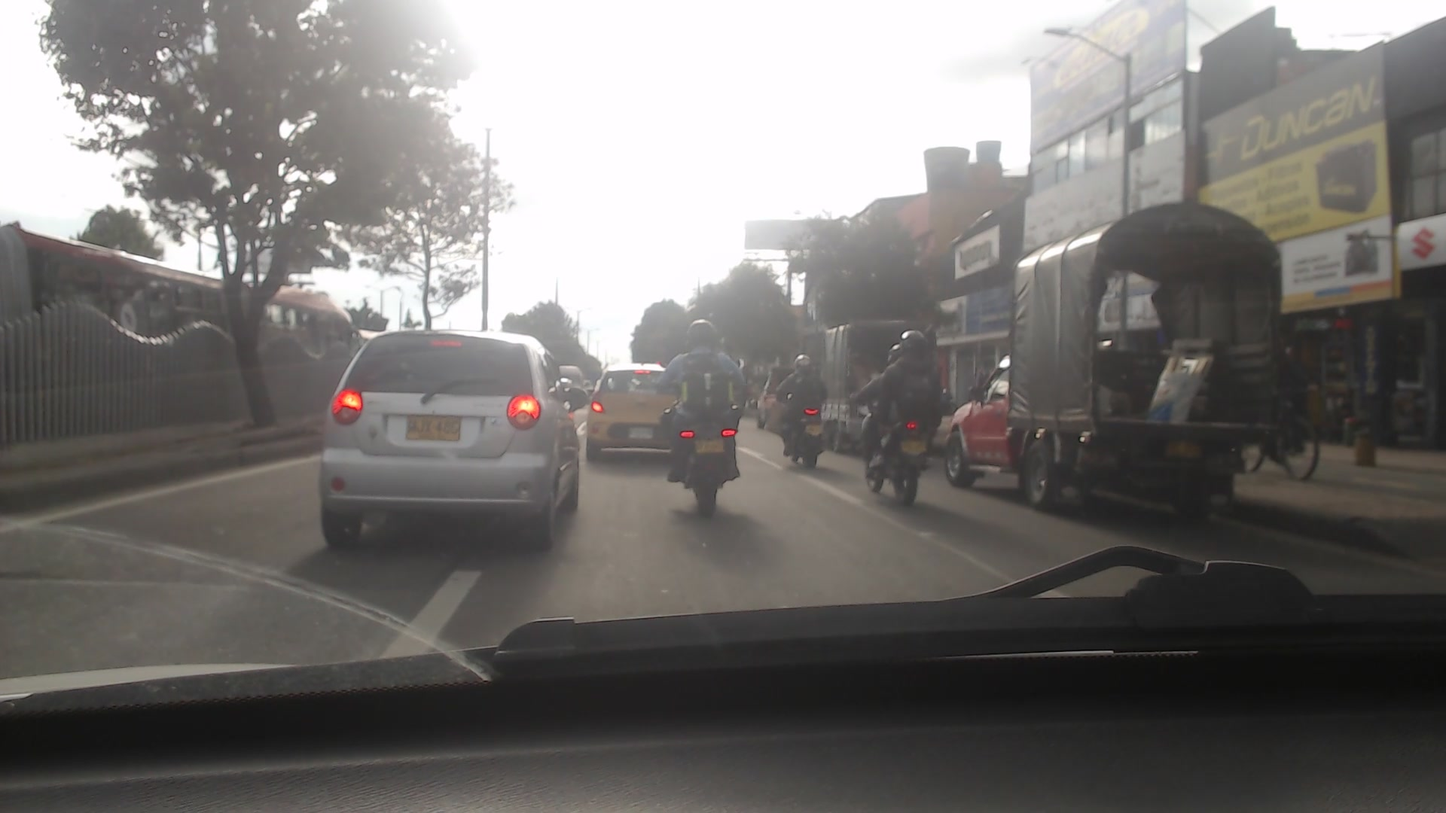car: (315, 327, 583, 553), (584, 357, 684, 460)
motorcycle: (851, 389, 931, 508), (663, 413, 748, 513), (768, 399, 828, 471)
person: (673, 319, 741, 488), (871, 326, 940, 462), (774, 351, 827, 449)
truck: (941, 205, 1285, 512)
